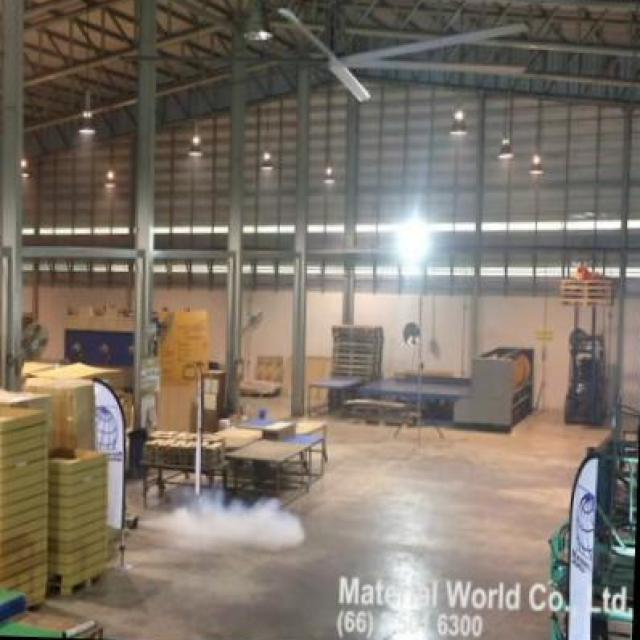fire: (156, 487, 309, 552)
